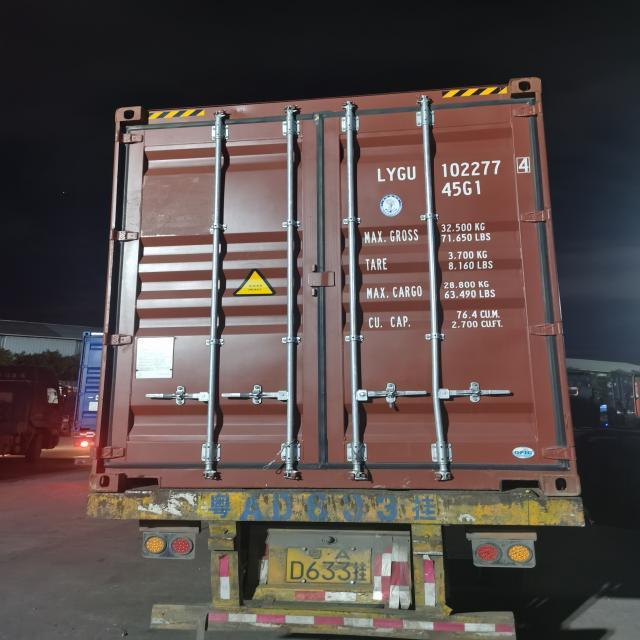ISO: (439, 180, 484, 198)
container_number: (379, 154, 534, 178)
